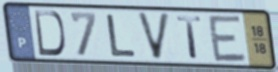7: (69, 10, 99, 59)
D: (32, 8, 68, 58)
E: (206, 14, 249, 64)
L: (106, 13, 138, 58)
T: (175, 15, 205, 61)
V: (135, 10, 172, 62)
